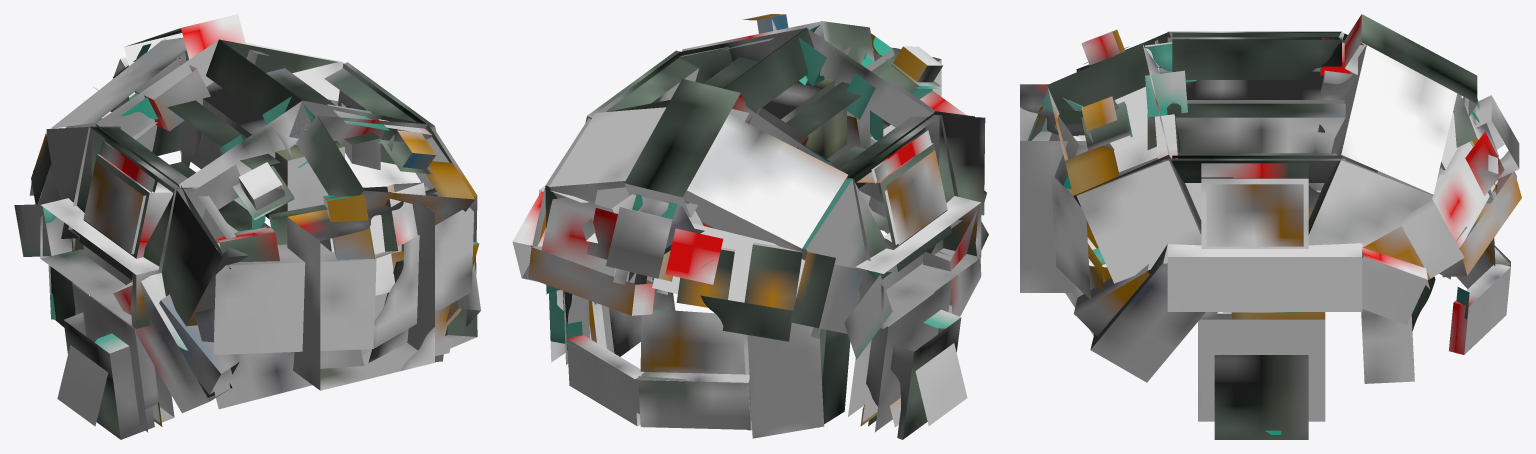
The model's file is medic_h.obj.
3 views of the same model, side by side, from view 1: azimuth 30°, elevation 25°; view 2: azimuth 150°, elevation 25°; view 3: azimuth 270°, elevation 25° (orthographic). The views are drawn at different scales.
Visible parts, largest first — view 1: medic_h, medic_h_glass; view 2: medic_h, medic_h_glass; view 3: medic_h, medic_h_glass.
Boxes of the visible parts, x1=… form: medic_h: x1=14, y1=14, x2=480, y2=439; medic_h_glass: x1=48, y1=197, x2=247, y2=327; medic_h: x1=512, y1=14, x2=988, y2=439; medic_h_glass: x1=546, y1=284, x2=850, y2=438; medic_h: x1=1020, y1=14, x2=1521, y2=439; medic_h_glass: x1=1361, y1=212, x2=1510, y2=383.
Size of the model in its own units: 0.7971 by 0.6823 by 0.935.
